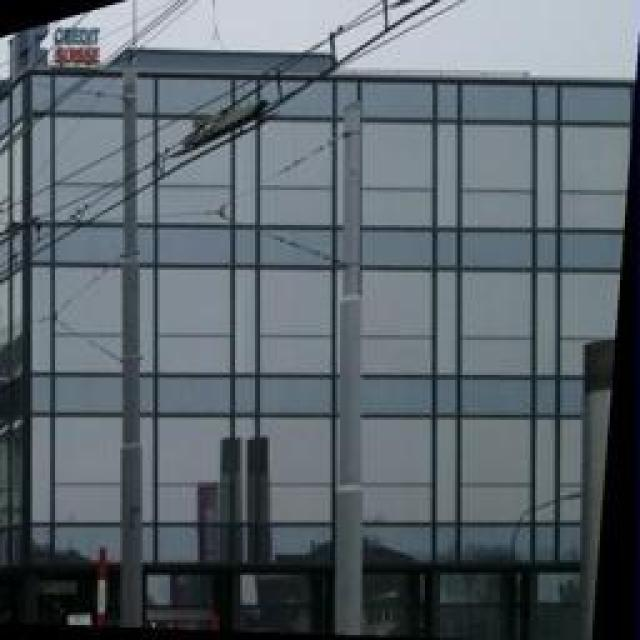Window: (435, 380, 555, 562), (140, 378, 245, 562), (30, 222, 155, 372), (28, 70, 152, 218), (32, 378, 120, 558), (248, 375, 332, 563), (235, 227, 333, 375), (460, 82, 555, 230), (460, 232, 560, 372), (362, 230, 458, 375), (360, 80, 455, 225), (362, 378, 436, 562), (155, 75, 235, 220), (158, 225, 232, 375), (258, 78, 332, 222), (562, 84, 628, 228), (562, 232, 612, 338), (560, 380, 580, 565)
